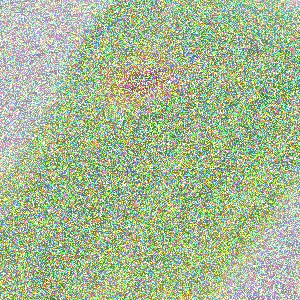Bacterial_Leaf_Blight: (99, 46, 190, 116)
